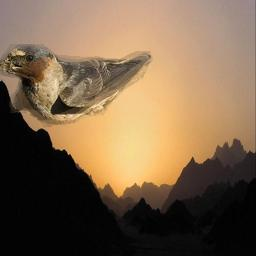Swallow: (0, 44, 153, 127)
